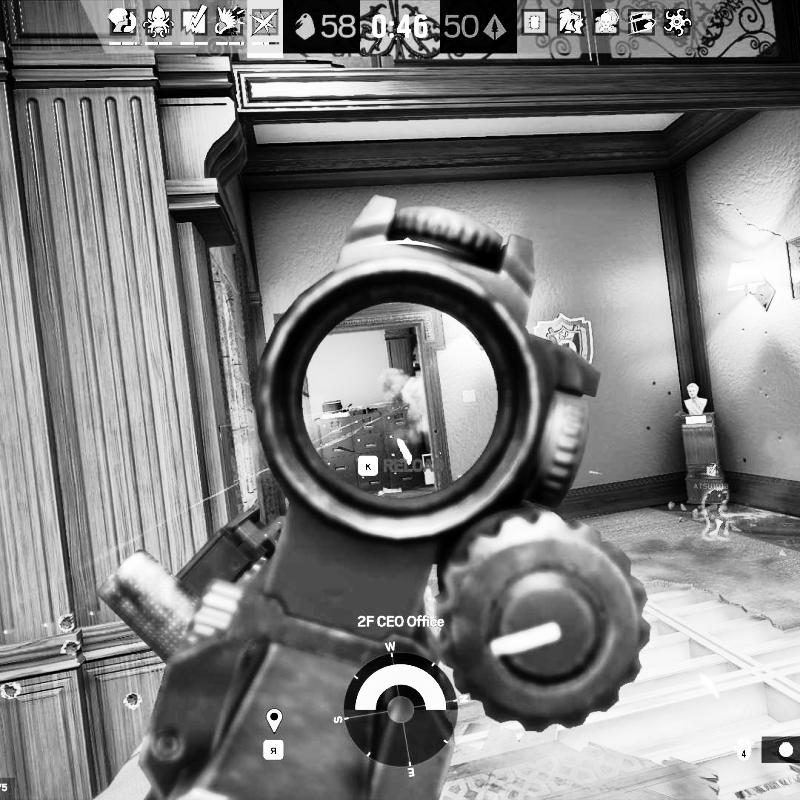Friend_label: (692, 463, 731, 491)
